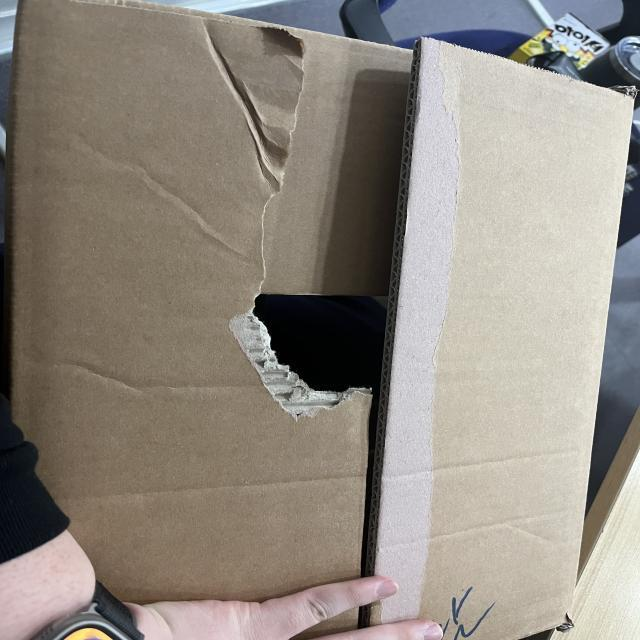hole: (246, 273, 384, 410)
